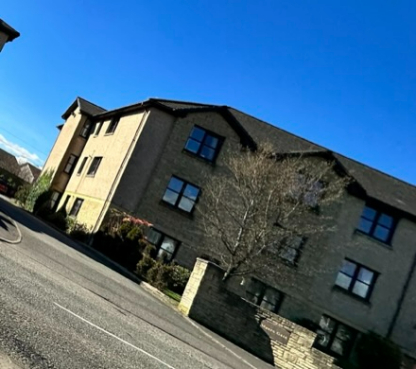tree: (196, 139, 341, 278)
